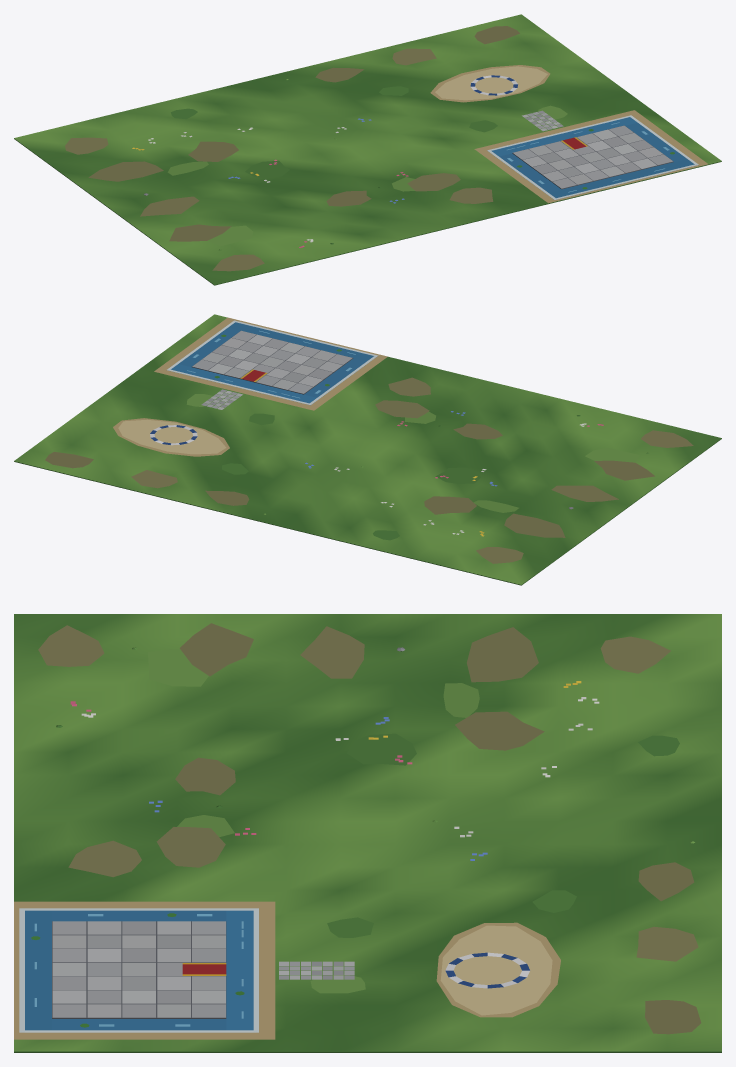
File: Decor_KnightCastle_Ground.fbx
3 renders of one model, top to bottom at view 1: azimuth 30°, elevation 25°; view 2: azimuth 150°, elevation 25°; view 3: azimuth 270°, elevation 25°, orthographic. The views are drawn at different scales.
Visible parts, largest first — view 1: Ground_Body; view 2: Ground_Body; view 3: Ground_Body.
Part boxes in pixels (x1=…): Ground_Body: x1=14, y1=14, x2=721, y2=285; Ground_Body: x1=14, y1=314, x2=721, y2=585; Ground_Body: x1=14, y1=614, x2=721, y2=1052.
Size of the model in its own units: 190 by 0.6 by 130.
